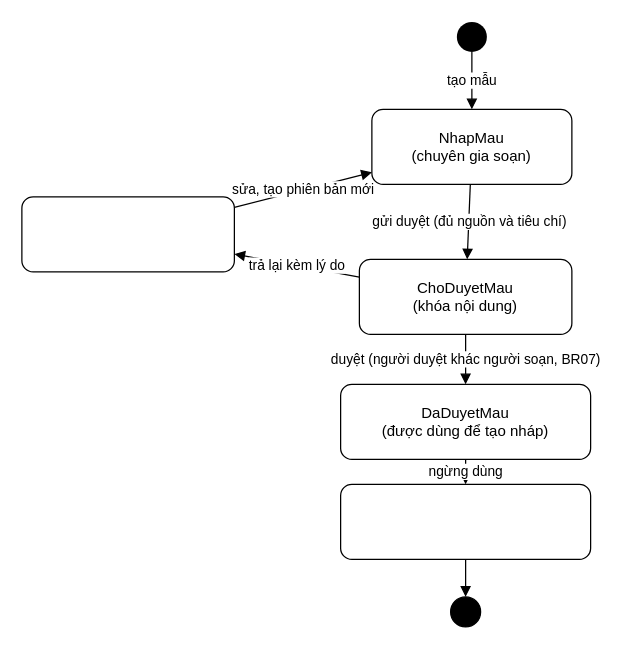
This 623x649 diagram has some shape labels left out. Here are the shapes that lost their labels. From the top down, the centre of each, then its label:
point (127, 234): BiTraLaiMau (có lý do)
point (465, 521): NgungDung (không còn phù hợp)
